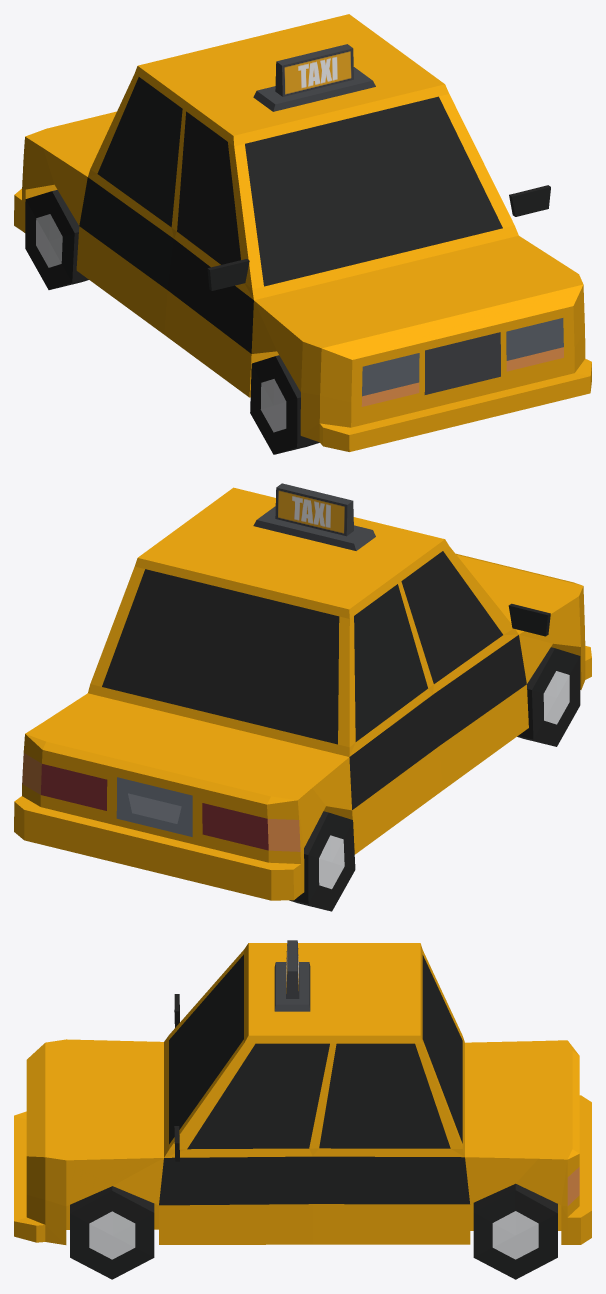
File: Vehicles_Taxi.fbx
The picture shows the model from 3 angles, top to bottom: view 1: azimuth 30°, elevation 25°; view 2: azimuth 150°, elevation 25°; view 3: azimuth 270°, elevation 25°; orthographic projection. The views are drawn at different scales.
Visible parts, largest first — view 1: Vehicles_Taxi; view 2: Vehicles_Taxi; view 3: Vehicles_Taxi.
Part boxes in pixels (bbox=[...]): Vehicles_Taxi: bbox=[14, 14, 591, 454]; Vehicles_Taxi: bbox=[14, 483, 591, 911]; Vehicles_Taxi: bbox=[14, 940, 591, 1279].
Size of the model in its own units: 235 by 192 by 384.
